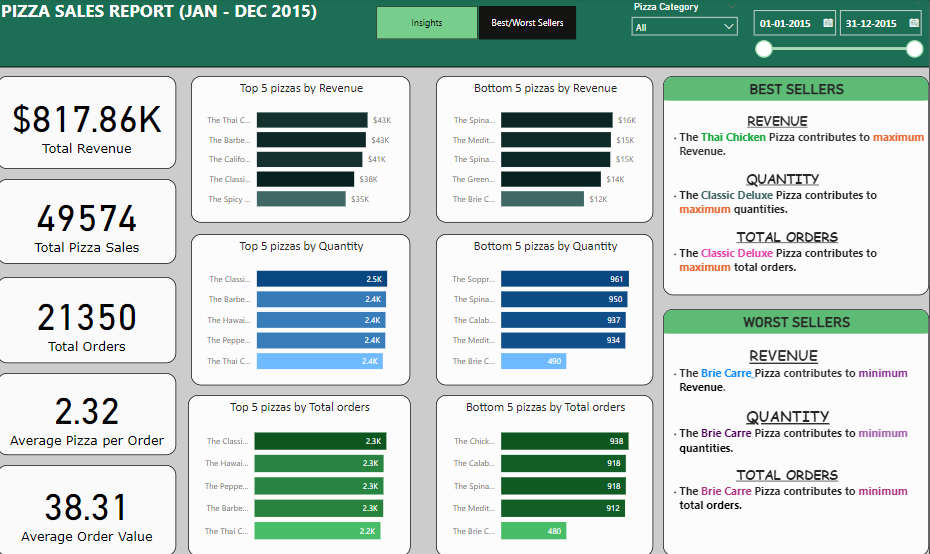

Layout of this report page (visuals, bound fields, positions):
{"tool":"powerbi","page":{"name":"Best/Worst Sellers","canvas":[1373,822],"ordinal":1},"visuals":[{"type":"textbox","title":"             PIZZA SALES REPORT (JAN - DEC 2015)","box":[0,0,1418.8,101.9],"z":0},{"type":"slicer","fields":{"Values":["pizza sales details.pizza_category"]},"box":[925.7,0,175.7,97.4],"z":1000},{"type":"slicer","fields":{"Values":["pizza sales details.order_date"]},"box":[1101.4,0,271.6,97.4],"z":2000},{"type":"barChart","title":"Top 5 pizzas by Revenue","fields":{"Category":["pizza sales details.pizza_name"],"Y":["pizza sales details.sum_of_sales"]},"box":[286.4,115.2,323.3,215.5],"z":3000},{"type":"barChart","title":"Bottom 5 pizzas by Revenue","fields":{"Category":["pizza sales details.pizza_name"],"Y":["pizza sales details.sum_of_sales"]},"box":[646.6,115.2,320.4,215.5],"z":4000},{"type":"barChart","title":"Top 5 pizzas by Quantity","fields":{"Category":["pizza sales details.pizza_name"],"Y":["Sum(pizza sales details.quantity)"]},"box":[286.4,346.9,323.3,222.9],"z":5000},{"type":"barChart","title":"Bottom 5 pizzas by Quantity","fields":{"Category":["pizza sales details.pizza_name"],"Y":["Sum(pizza sales details.quantity)"]},"box":[646.6,346.9,320.4,222.9],"z":6000},{"type":"barChart","title":"Top 5 pizzas by Total orders","fields":{"Category":["pizza sales details.pizza_name"],"Y":["pizza sales details.total_orders"]},"box":[282,584.6,327.7,237.7],"z":7000},{"type":"barChart","title":"Bottom 5 pizzas by Total orders","fields":{"Category":["pizza sales details.pizza_name"],"Y":["pizza sales details.total_orders"]},"box":[646.6,584.6,320.4,237.7],"z":8000},{"type":"pageNavigator","box":[559,12,150.9,49.3],"z":9000},{"type":"pageNavigator","box":[709.9,12,143.5,49.3],"z":10000},{"type":"card","title":"SUM OF SALES","fields":{"Values":["pizza sales details.Total Revenue"]},"box":[0,115.2,264.3,137.3],"z":11000},{"type":"card","title":"TOTAL PIZZA SALES","fields":{"Values":["pizza sales details.total_pizzas_sold"]},"box":[0,267.2,264.3,125.5],"z":12000},{"type":"card","title":"TOTAL ORDERS","fields":{"Values":["pizza sales details.total_orders"]},"box":[0,410.4,264.3,127],"z":13000},{"type":"card","title":"AVERAGE PIZZA PER ORDER","fields":{"Values":["pizza sales details.average_pizzas_per_order"]},"box":[0,552.2,264.3,121.1],"z":14000},{"type":"card","title":"AVERAGE ORDER VALUE","fields":{"Values":["pizza sales details.Average_order_value"]},"box":[0,688,264.3,134.3],"z":15000},{"type":"textbox","title":"BEST SELLERS","box":[981.1,114.9,391.8,322.6],"z":16000},{"type":"textbox","title":"WORST SELLERS","box":[981.1,458.1,391.8,363.9],"z":17000}]}

Visuals, with their boxes in screenshot pixels (x1, y1, x2, y2), scaled from the page's 1373x822 canvas onto the 930x554 screenshot:
"             PIZZA SALES REPORT (JAN - DEC 2015)" textbox: select_region(0, 0, 929, 69)
slicer - pizza sales details.pizza_category: select_region(627, 0, 746, 66)
slicer - pizza sales details.order_date: select_region(746, 0, 929, 66)
"Top 5 pizzas by Revenue" barChart: select_region(194, 78, 413, 223)
"Bottom 5 pizzas by Revenue" barChart: select_region(438, 78, 655, 223)
"Top 5 pizzas by Quantity" barChart: select_region(194, 234, 413, 384)
"Bottom 5 pizzas by Quantity" barChart: select_region(438, 234, 655, 384)
"Top 5 pizzas by Total orders" barChart: select_region(191, 394, 413, 553)
"Bottom 5 pizzas by Total orders" barChart: select_region(438, 394, 655, 553)
pageNavigator: select_region(379, 8, 481, 41)
pageNavigator: select_region(481, 8, 578, 41)
"SUM OF SALES" card: select_region(0, 78, 179, 170)
"TOTAL PIZZA SALES" card: select_region(0, 180, 179, 265)
"TOTAL ORDERS" card: select_region(0, 277, 179, 362)
"AVERAGE PIZZA PER ORDER" card: select_region(0, 372, 179, 454)
"AVERAGE ORDER VALUE" card: select_region(0, 464, 179, 553)
"BEST SELLERS" textbox: select_region(665, 77, 929, 295)
"WORST SELLERS" textbox: select_region(665, 309, 929, 553)
